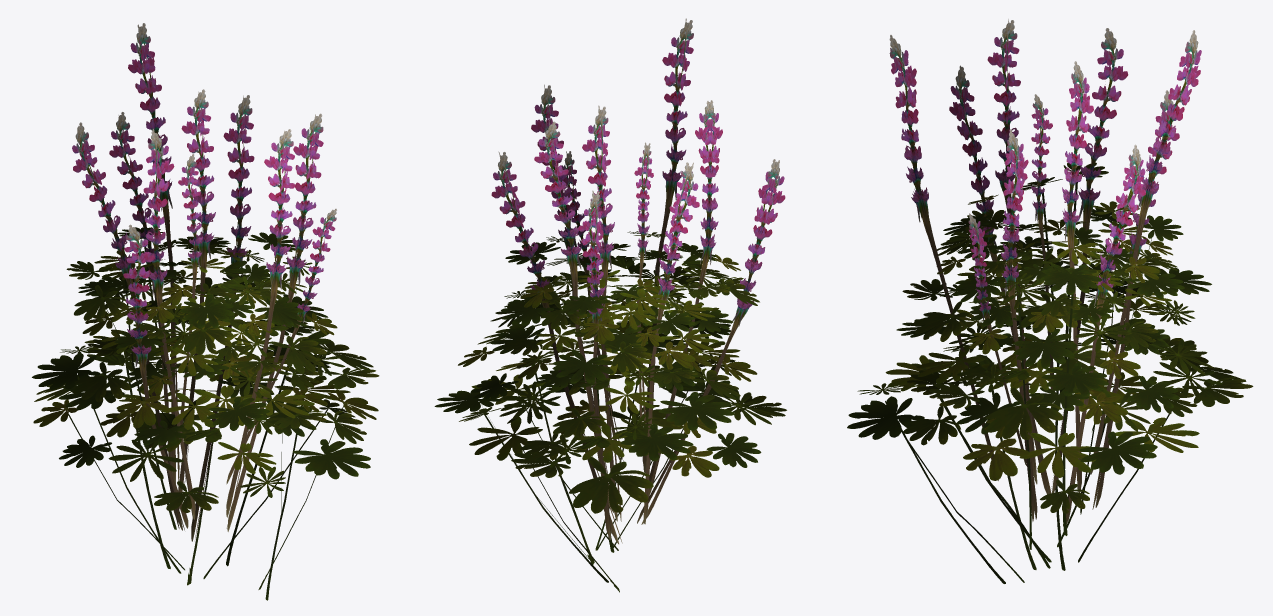
File: arden_forest_lupin_02_foliage.fbx
3 views of the same model, side by side, from view 1: azimuth 30°, elevation 25°; view 2: azimuth 150°, elevation 25°; view 3: azimuth 270°, elevation 25° (orthographic). The views are drawn at different scales.
Visible parts, largest first — view 1: arden_forest_lupin_02_foliage; view 2: arden_forest_lupin_02_foliage; view 3: arden_forest_lupin_02_foliage.
Part boxes in pixels (box(x1,y1,x2,y2)): arden_forest_lupin_02_foliage: box(32, 23, 379, 600); arden_forest_lupin_02_foliage: box(434, 18, 786, 592); arden_forest_lupin_02_foliage: box(847, 19, 1253, 583).
Bounding box in the file's own units: 105 × 165 × 115.
